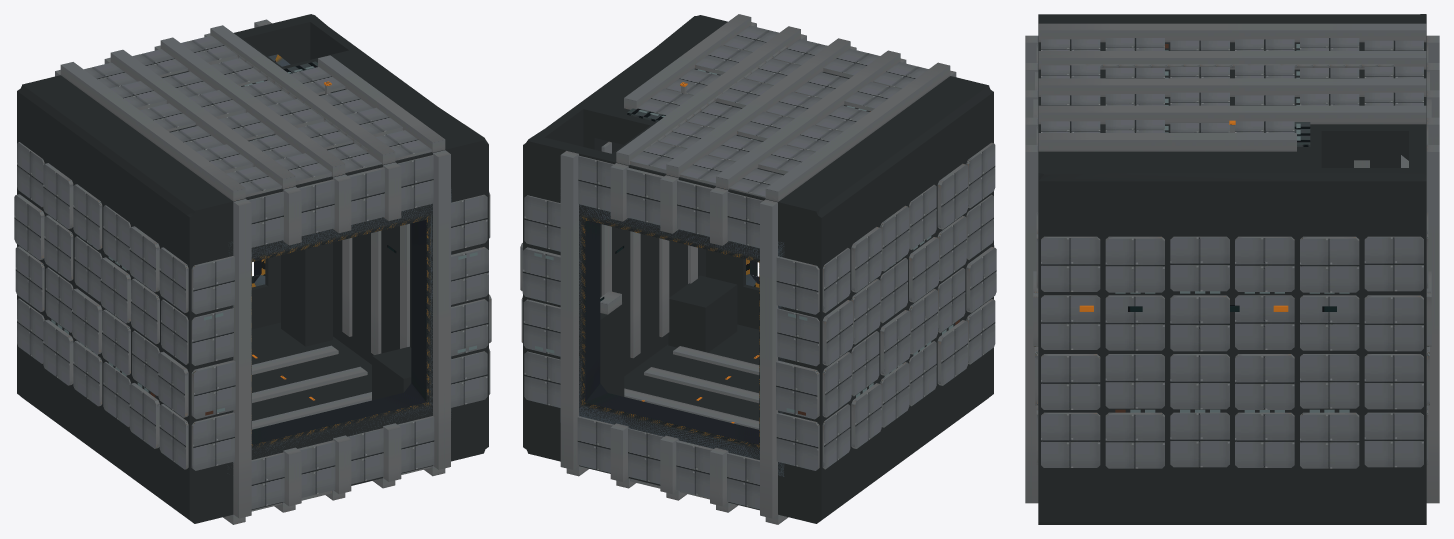
File: kit_room_collapsed.glb
3 views of the same model, side by side, from view 1: azimuth 30°, elevation 25°; view 2: azimuth 150°, elevation 25°; view 3: azimuth 270°, elevation 25° (orthographic). The views are drawn at different scales.
Parts seen in each view (by area): view 1: lod0; view 2: lod0; view 3: lod0.
Part boxes in pixels (x1,y1,x2,y2): lod0: (14,14,491,524); lod0: (520,14,996,524); lod0: (1025,14,1439,524).
Size of what is drawn, in the model's own units: 123 by 128 by 128.
Materials: 1 (1 with a texture image).
